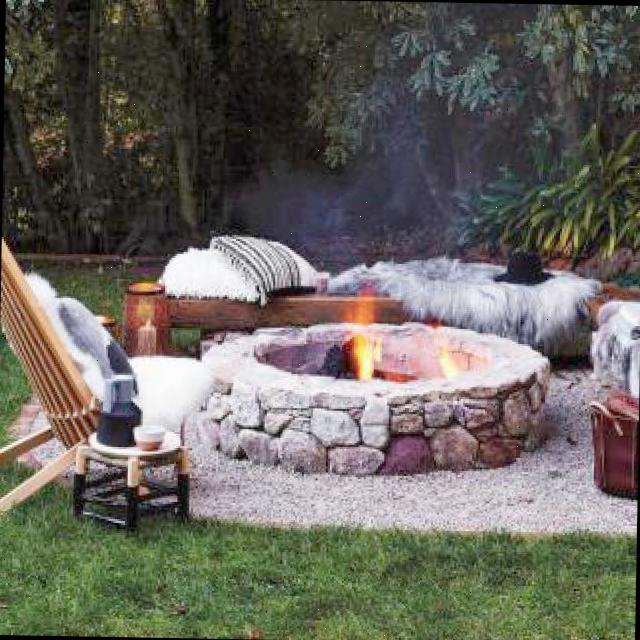fire: (342, 290, 388, 382), (427, 324, 464, 378)
